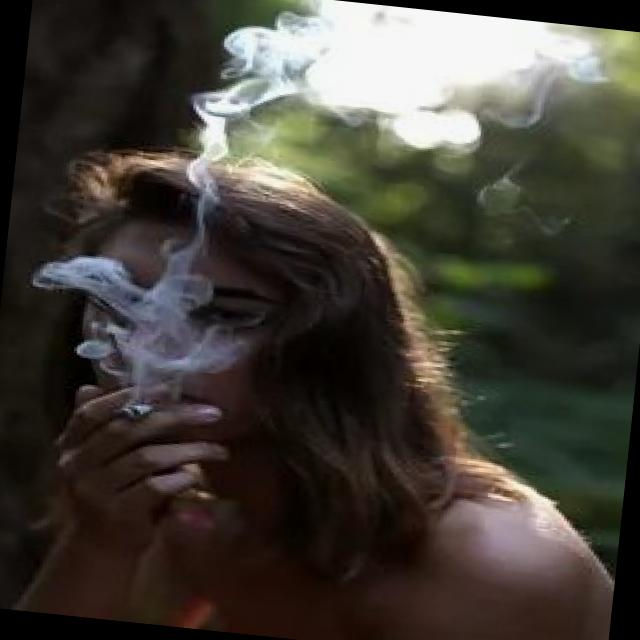smoke: (114, 400, 168, 424)
